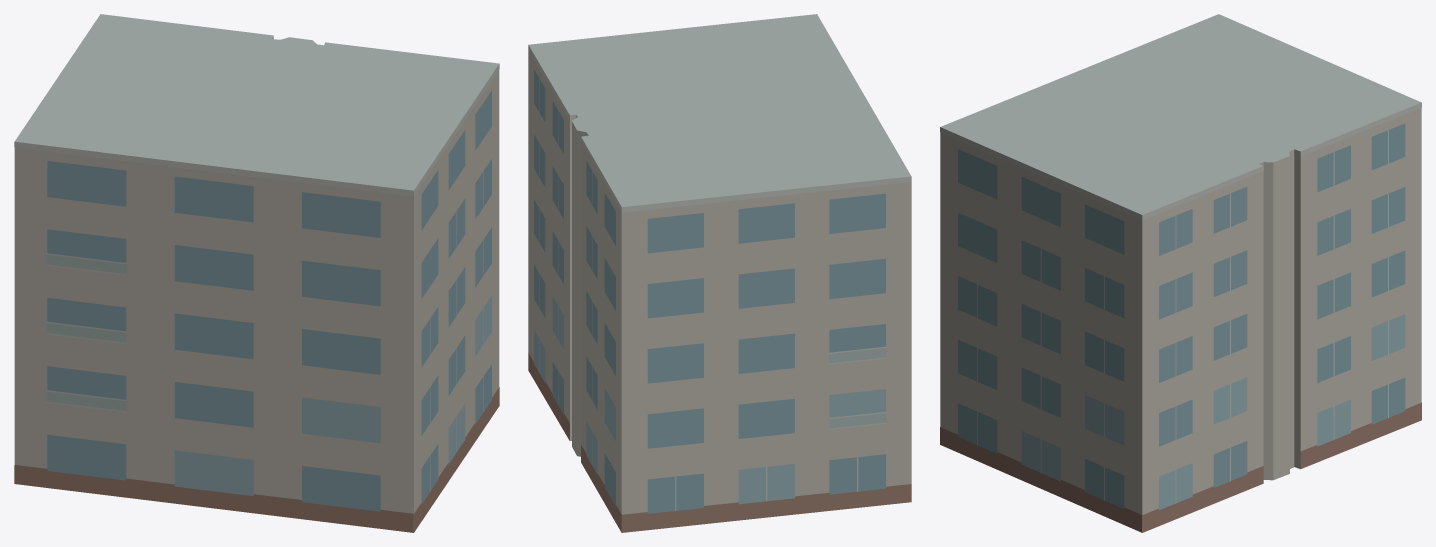
File: survey-upis-32717248.glb
3 views of the same model, side by side, from view 1: azimuth 30°, elevation 25°; view 2: azimuth 150°, elevation 25°; view 3: azimuth 270°, elevation 25° (orthographic). The views are drawn at different scales.
Parts seen in each view (by area): view 1: survey-upis-32717248.tmp; view 2: survey-upis-32717248.tmp; view 3: survey-upis-32717248.tmp.
Boxes of the visible parts, box(x1,y1,x2,y2) form: survey-upis-32717248.tmp: box(14, 14, 499, 532); survey-upis-32717248.tmp: box(528, 14, 911, 532); survey-upis-32717248.tmp: box(940, 14, 1421, 532).
Bounding box in the file's own units: 19.55 × 14.4 × 19.78.
